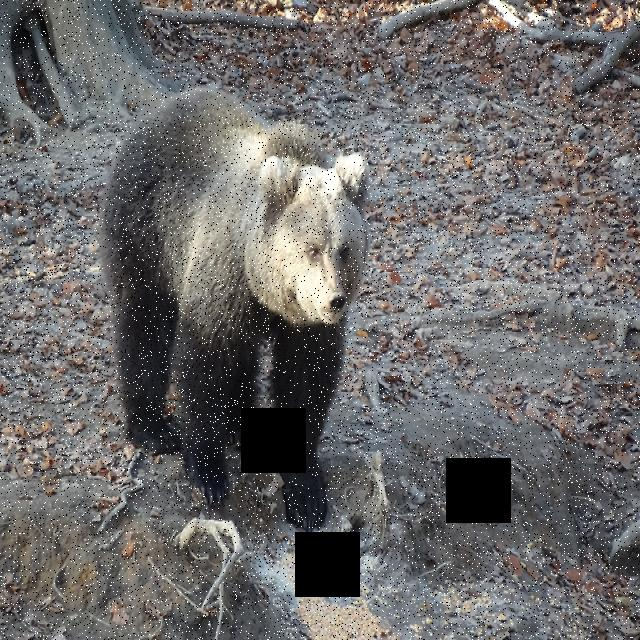Bear: (99, 85, 371, 531)
